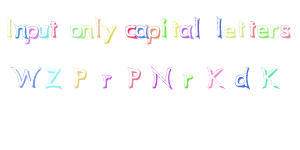I: (2, 13, 18, 41)
K: (206, 63, 228, 92), (260, 64, 281, 92)
N: (148, 64, 174, 92)
P: (125, 64, 143, 92), (72, 65, 89, 91)
W: (8, 61, 42, 92)
Z: (44, 65, 64, 91)
a: (134, 20, 150, 41), (178, 22, 194, 43)
c: (123, 21, 138, 42)
d: (234, 65, 252, 91)
e: (256, 22, 270, 40), (224, 23, 237, 40)
i: (160, 16, 169, 40)
l: (212, 13, 228, 43), (191, 11, 203, 40), (92, 14, 102, 39)
n: (12, 22, 28, 41), (79, 19, 93, 40)
o: (67, 18, 83, 42)
p: (145, 20, 161, 48), (23, 22, 40, 47)
r: (99, 69, 115, 93), (181, 72, 196, 91), (268, 21, 280, 40)
s: (278, 19, 293, 41)
t: (49, 16, 61, 39), (245, 17, 257, 40), (169, 19, 181, 39), (236, 17, 246, 40)
u: (35, 23, 50, 40)
y: (100, 23, 118, 50)
